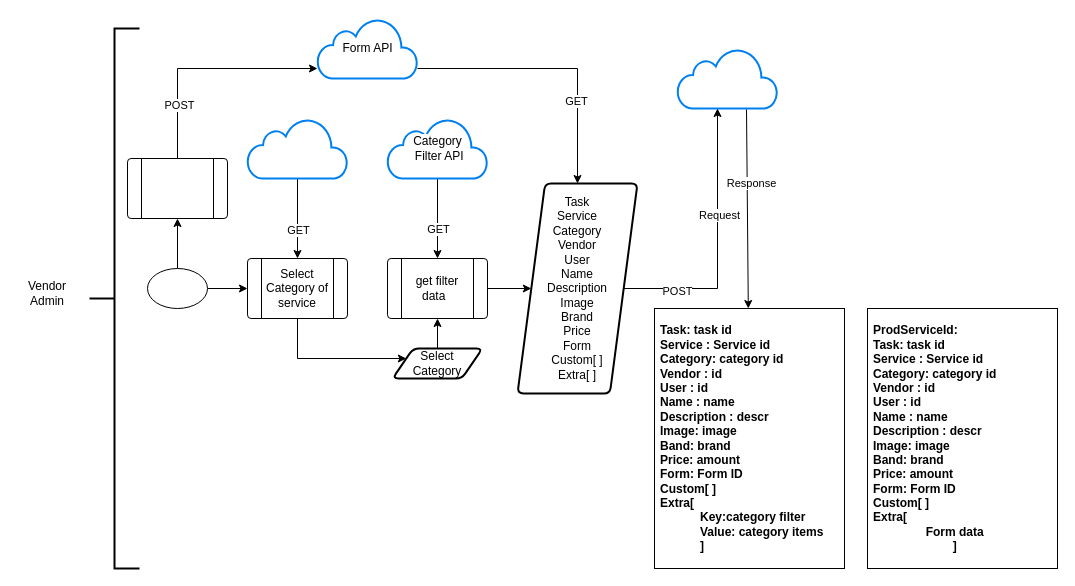
The diagram is 1075 pixels wide and 586 high, and some of its shapes have lost their labels. Here are the shapes that lost their labels. From the top down, the centre of each, then its label:
At (727,78): "Task API".
At (297,148): "Vendor Settings API".
At (177,188): "Create Form".
At (177,288): "Start".
